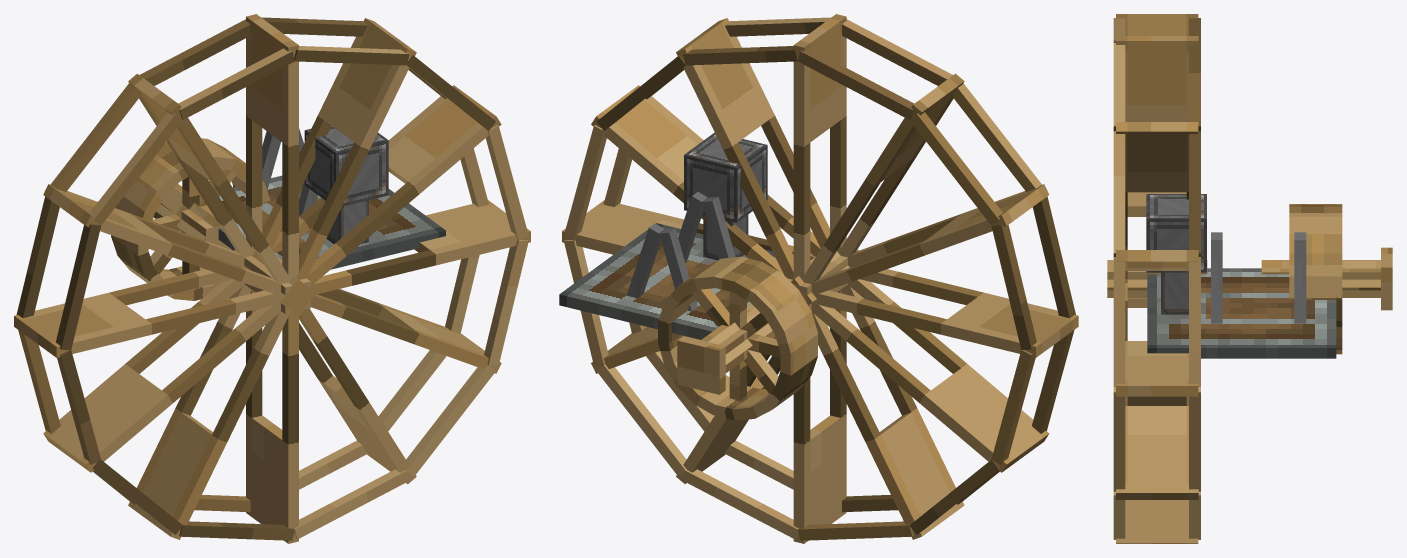
File: waterwheel_generator.obj
3 renders of one model, left to right at view 1: azimuth 30°, elevation 25°; view 2: azimuth 150°, elevation 25°; view 3: azimuth 270°, elevation 25°, orthographic. The views are drawn at different scales.
Parts seen in each view (by area): view 1: wheel, base; view 2: wheel, base; view 3: wheel, base.
Part boxes in pixels (<box>): wheel: <box>14,14,530,543</box>; base: <box>218,126,445,269</box>; wheel: <box>562,14,1078,543</box>; base: <box>559,132,776,339</box>; wheel: <box>1107,14,1392,543</box>; base: <box>1146,194,1336,358</box>.
Bounding box in the file's own units: 2.81 × 2.81 × 1.51.
